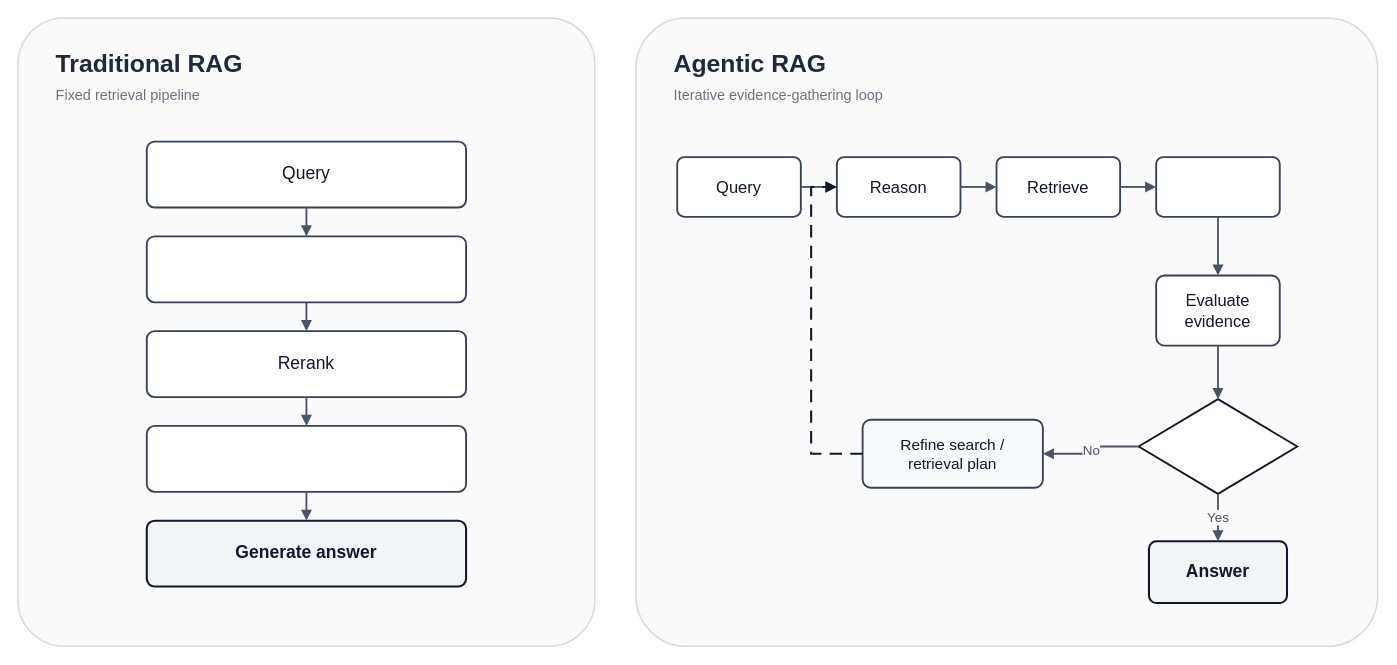
This 1397x665 diagram has some shape labels left out. Here are the shapes that lost their labels. From the top down, the centre of each, then its label:
At pixel 1217 186: "Inspect".
At pixel 305 269: "Retrieve top-k".
At pixel 305 458: "Assemble context".
At pixel 1217 446: "Sufficient?".
